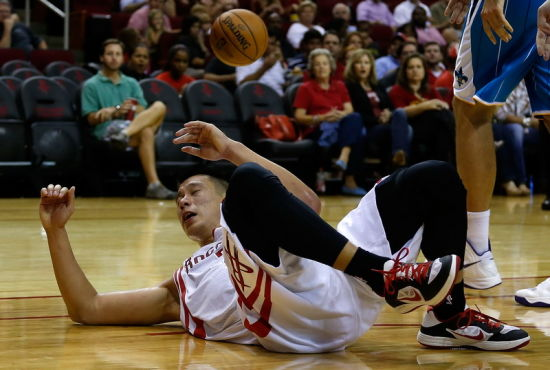10+: (3, 1, 550, 370)
down: (40, 110, 533, 359)
